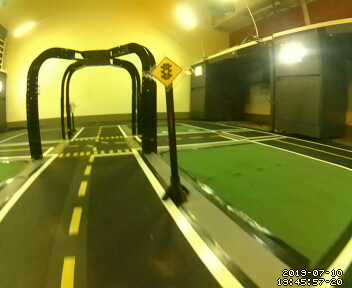Traffic light sign: (153, 57, 183, 86)
